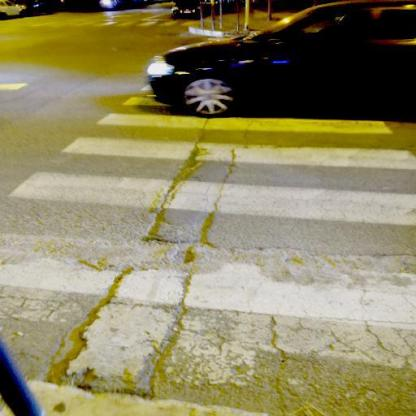crosswalk: (30, 109, 416, 175)
